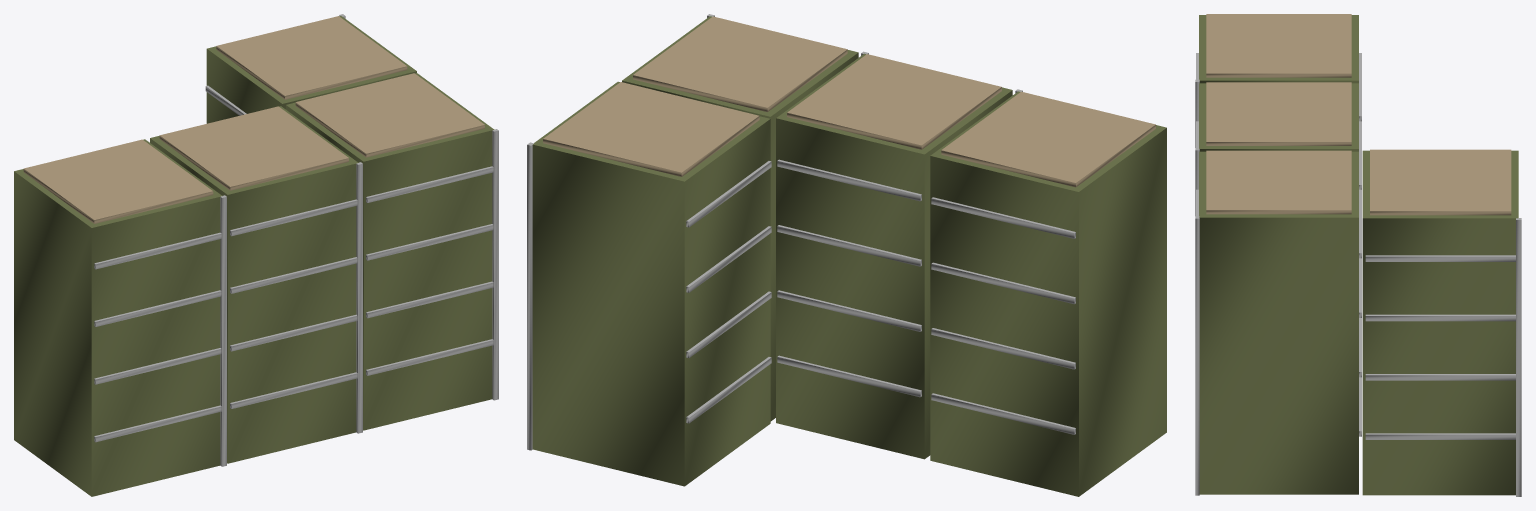
File: SM_HescoRemateEspejo_v0_MallaLimpia_e0_Sano_LOD0.fbx
3 views of the same model, side by side, from view 1: azimuth 30°, elevation 25°; view 2: azimuth 150°, elevation 25°; view 3: azimuth 270°, elevation 25° (orthographic). The views are drawn at different scales.
Parts seen in each view (by area): view 1: SM_hesco_piezas_v20_LOD0; view 2: SM_hesco_piezas_v20_LOD0; view 3: SM_hesco_piezas_v20_LOD0.
Boxes of the visible parts, bbox=[...] form: SM_hesco_piezas_v20_LOD0: bbox=[14, 14, 498, 496]; SM_hesco_piezas_v20_LOD0: bbox=[527, 14, 1166, 496]; SM_hesco_piezas_v20_LOD0: bbox=[1195, 14, 1521, 496].
Bounding box in the file's own units: 3.33 × 2.13 × 2.24.
